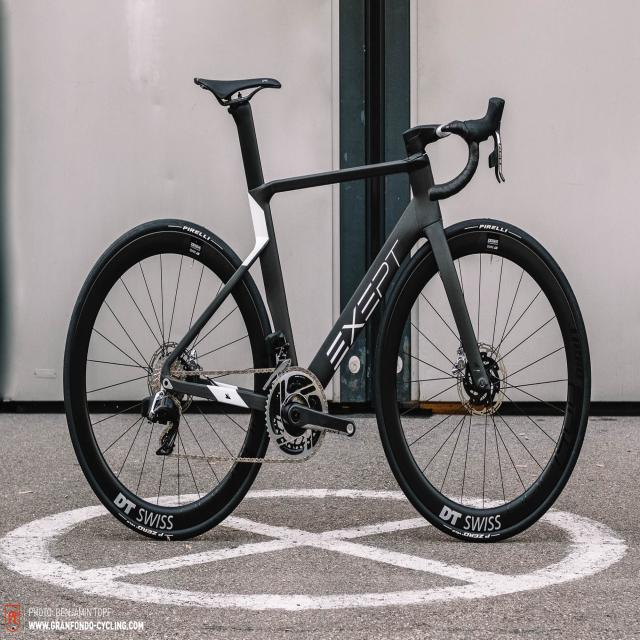road-bike: (63, 77, 592, 544)
